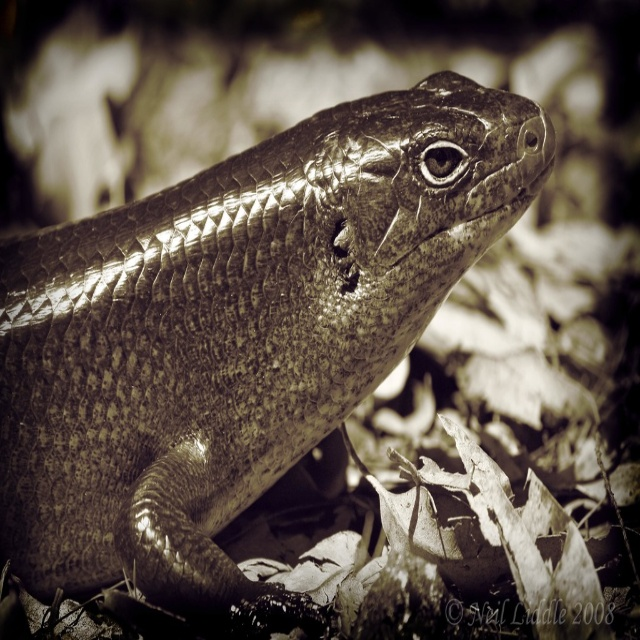Lizard: (0, 68, 558, 639)
